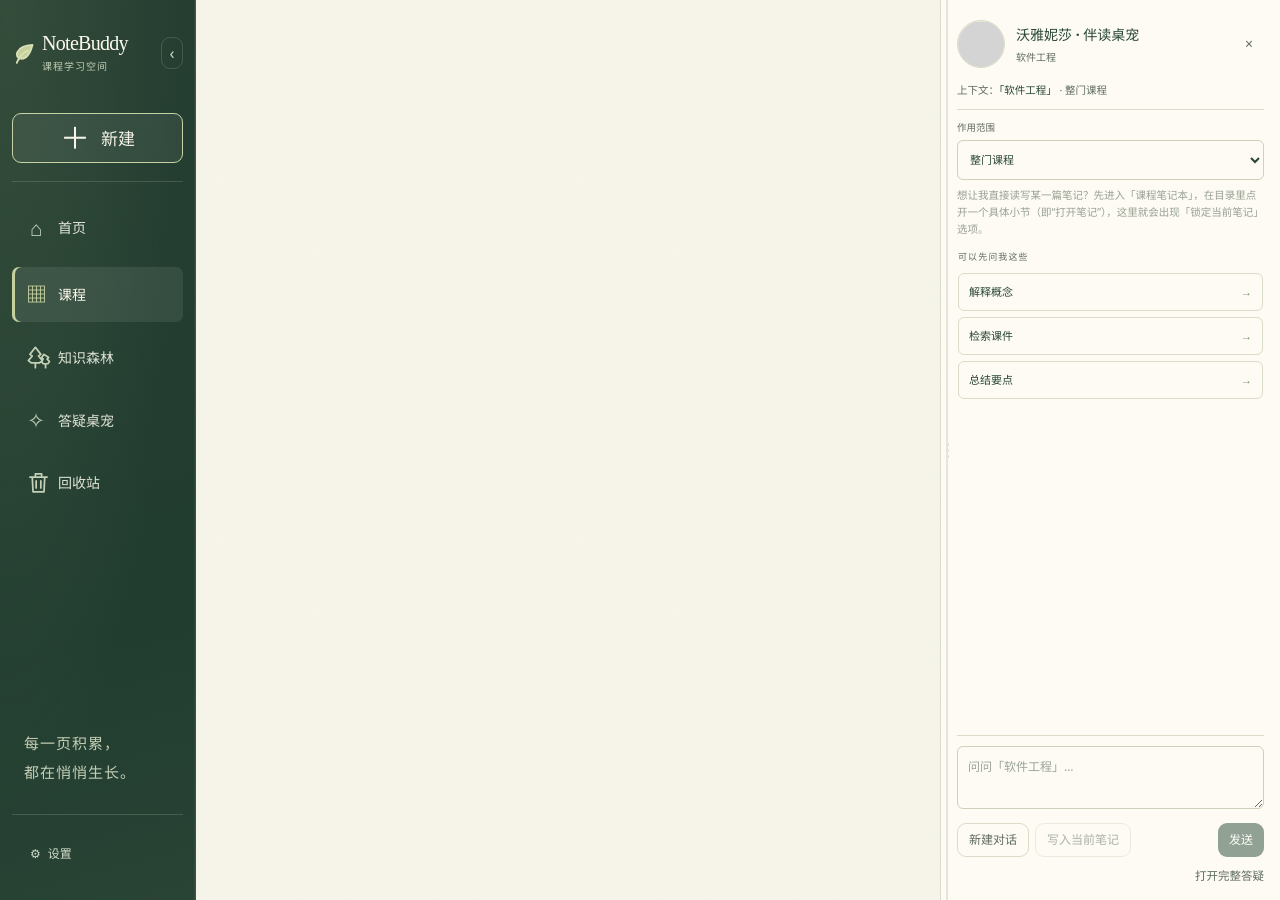
Test: 拖得太窄松手视为「我要关掉」：抽屉收合，宽度记回默认值
Press the mouse on the element named "拖拽调整答疑坞宽度" at {"x": 947, "y": 450}, box [941, 0, 953, 899]
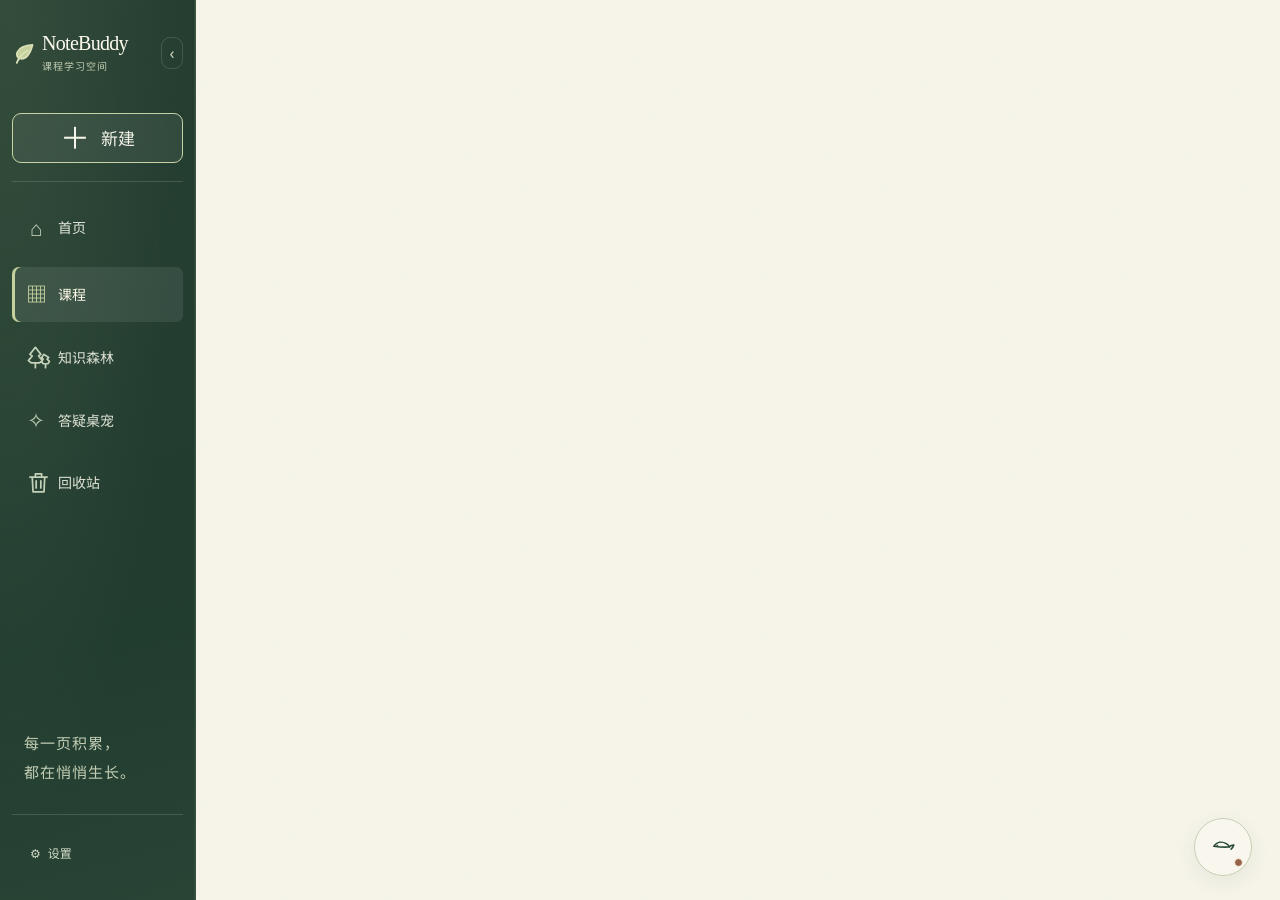
Expected: the element with class "assistant-dock" is gone
Expected: the button named "打开课程学习助手" is shown, [1194, 818, 1252, 876]
